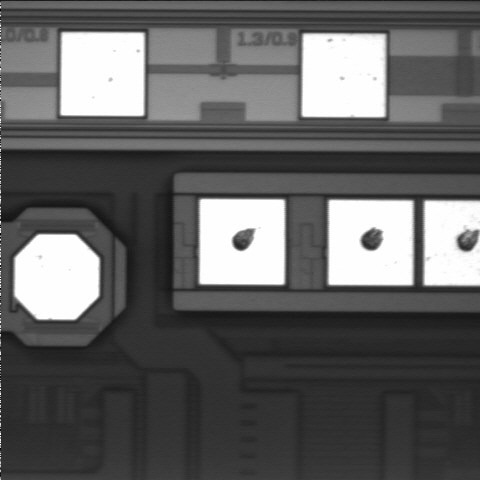pad: (200, 199, 285, 285), (329, 200, 413, 285), (15, 235, 99, 320), (61, 33, 144, 116), (302, 34, 385, 117)
